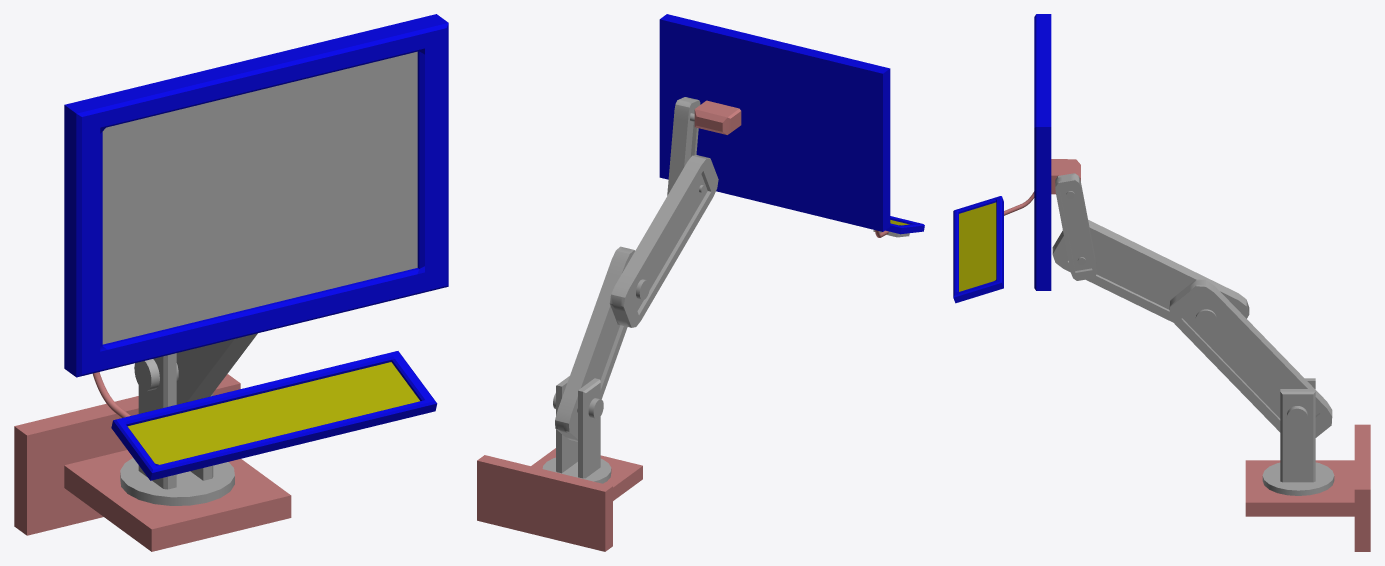
Rendered from SwingingConsole.fbx.
The picture shows the model from 3 angles, left to right: view 1: azimuth 30°, elevation 25°; view 2: azimuth 150°, elevation 25°; view 3: azimuth 270°, elevation 25°; orthographic projection. The views are drawn at different scales.
Parts seen in each view (by area): view 1: Monitor, pCube13, pCube14, BaseArm; view 2: Monitor, pCube13, MiddleArm, BaseArm, pCube14, UpperArm; view 3: Monitor, BaseArm, MiddleArm, pCube13, pCube14, UpperArm.
Boxes of the visible parts, <box> form: Monitor: <box>64,14,448,480</box>; pCube13: <box>14,374,291,551</box>; pCube14: <box>120,353,234,505</box>; BaseArm: <box>134,333,257,404</box>; Monitor: <box>659,14,924,237</box>; pCube13: <box>477,448,642,551</box>; MiddleArm: <box>609,155,718,327</box>; BaseArm: <box>553,246,634,441</box>; pCube14: <box>542,376,611,483</box>; UpperArm: <box>667,97,705,195</box>; Monitor: <box>953,14,1080,303</box>; BaseArm: <box>1169,279,1332,437</box>; MiddleArm: <box>1052,219,1249,329</box>; pCube13: <box>1245,424,1370,551</box>; pCube14: <box>1262,378,1334,495</box>; UpperArm: <box>1055,173,1096,280</box>.
Bounding box in the file's own units: 33.96 × 50.96 × 46.96.
